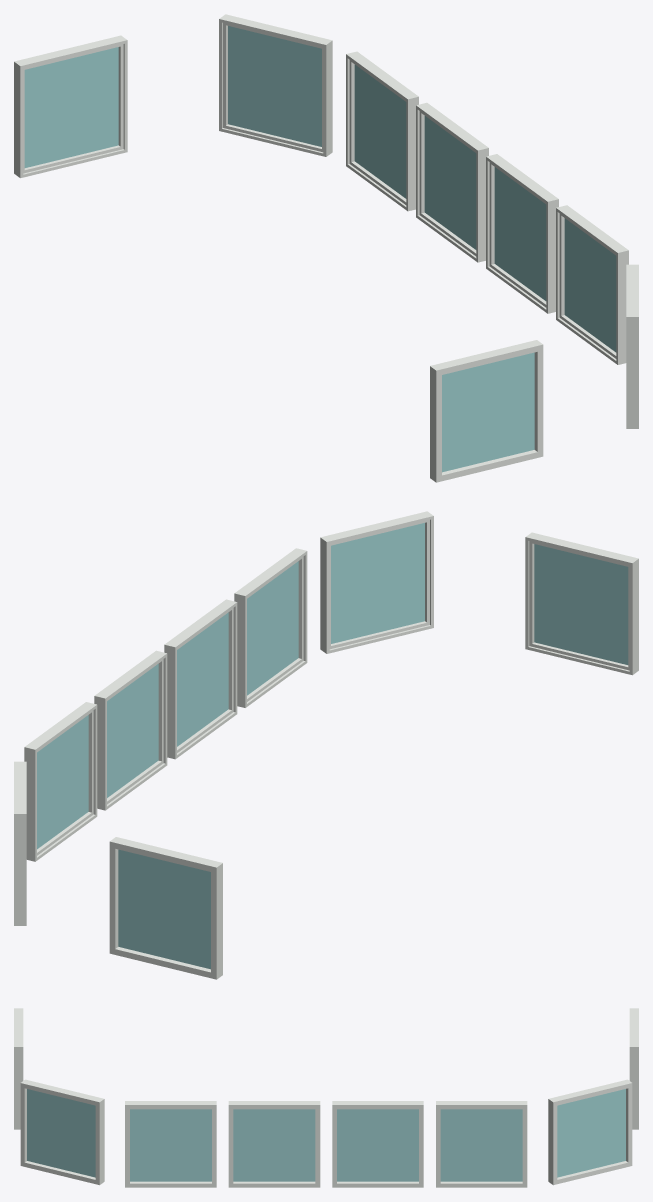
File: Windows_Puente.fbx
3 views of the same model, one above another, from view 1: azimuth 30°, elevation 25°; view 2: azimuth 150°, elevation 25°; view 3: azimuth 270°, elevation 25° (orthographic). The views are drawn at different scales.
Visible parts, largest first — view 1: WGlass_002, WGlass_003, WGlass_001, WGlass_004, WGlass_007, WGlass_005, WGlass_006, WFrame_001, WFrame_002, WFrame_003, WFrame_007, WFrame_004 (+3 smaller); view 2: WGlass_001, WGlass_008, WGlass_002, WGlass_004, WGlass_006, WGlass_007, WGlass_005, WFrame_002, WFrame_001, WFrame_008, WFrame_004, WFrame_005 (+3 smaller); view 3: WGlass_004, WGlass_006, WGlass_005, WGlass_007, WGlass_003, WGlass_008, WFrame_003, WFrame_008, WFrame_006, WFrame_004, WFrame_005, WFrame_007 (+2 smaller).
Part boxes in pixels (x1,y1,x2,y2): WGlass_002: (24,47,118,167); WGlass_003: (228,26,321,146); WGlass_001: (442,352,534,472); WGlass_004: (354,64,406,198); WGlass_007: (564,218,616,352); WGlass_005: (424,116,476,249); WGlass_006: (494,167,546,300); WFrame_001: (430,340,543,482); WFrame_002: (14,35,127,178); WFrame_003: (219,14,332,156); WFrame_007: (556,205,628,364); WFrame_004: (346,51,418,211); WGlass_001: (534,544,628,664); WGlass_008: (331,523,424,643); WGlass_002: (118,849,210,969); WGlass_004: (37,715,88,849); WGlass_006: (177,612,228,746); WGlass_007: (247,561,298,695); WGlass_005: (107,664,158,797); WFrame_002: (109,837,222,979); WFrame_001: (525,532,638,675); WFrame_008: (320,511,433,653); WFrame_004: (24,702,97,861); WFrame_005: (94,650,167,810); WGlass_004: (440,1109,522,1181); WGlass_006: (233,1109,315,1181); WGlass_005: (337,1109,418,1181); WGlass_007: (130,1109,211,1181); WGlass_003: (557,1089,625,1177); WGlass_008: (27,1089,95,1177); WFrame_003: (548,1079,632,1185); WFrame_008: (20,1079,104,1185); WFrame_006: (228,1101,320,1187); WFrame_004: (436,1101,527,1187); WFrame_005: (332,1101,423,1187); WFrame_007: (125,1101,216,1187).
Size of the model in its own units: 2.65 by 1.06 by 7.24.
